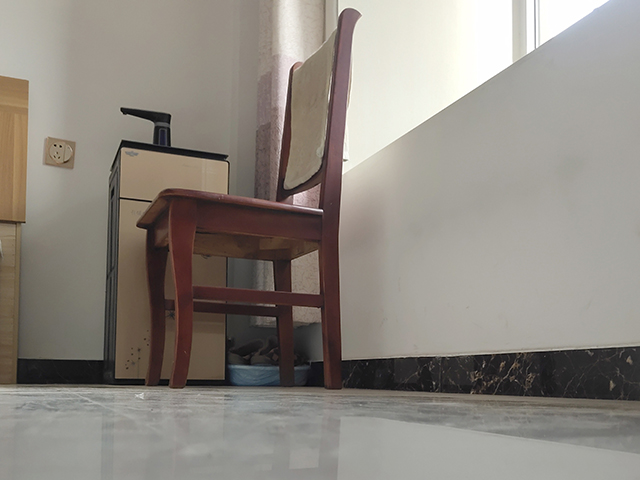stool: (131, 5, 364, 391)
